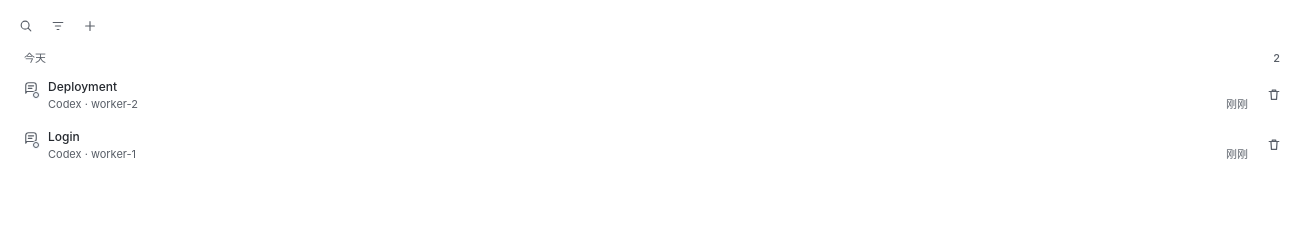
failed deletion remains visible and retry closes only the removed session
Expected: the text "Login" is shown, x1=48 y1=129 x2=80 y2=145
Click the 1st button named "删除会话" at [1274, 95], box x1=1260 y1=81 x2=1288 y2=109
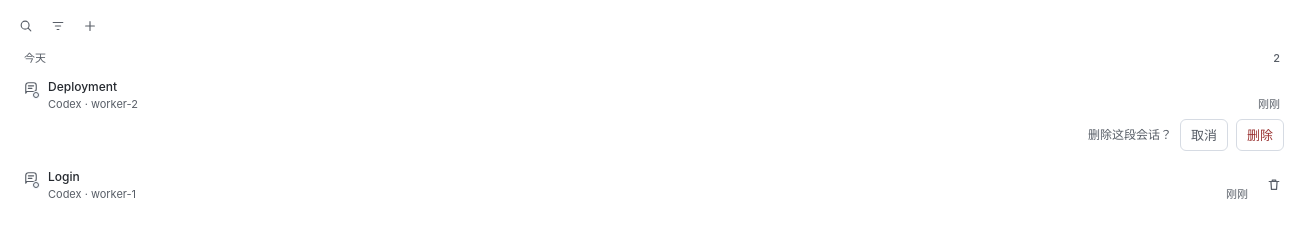
Click the button with aria-label "确认删除" at [1260, 135], box x1=1236 y1=119 x2=1284 y2=151
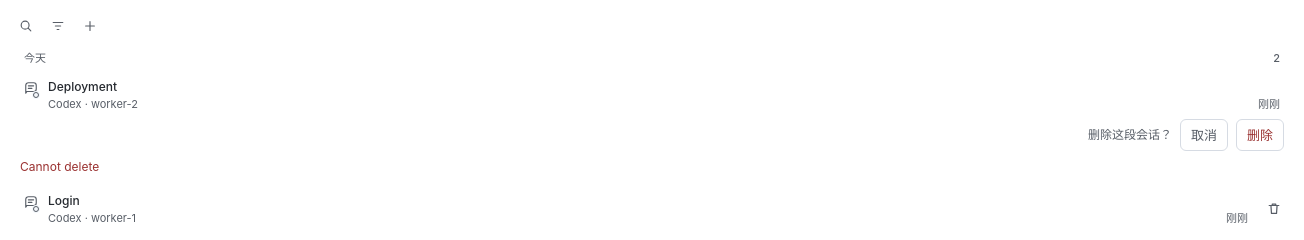
Result: the text "Cannot delete" is shown at x1=20 y1=159 x2=99 y2=174
Click the button with aria-label "确认删除" at [1260, 135], box x1=1236 y1=119 x2=1284 y2=151
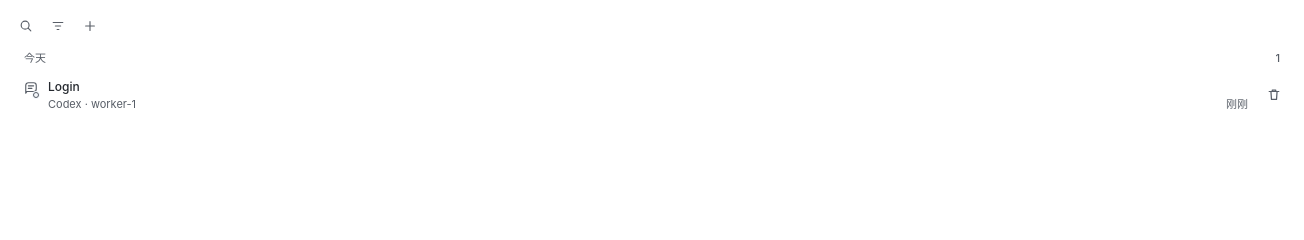
Expected: the text "Login" is shown, x1=48 y1=78 x2=80 y2=94
Result: the button "Deployment" is gone
